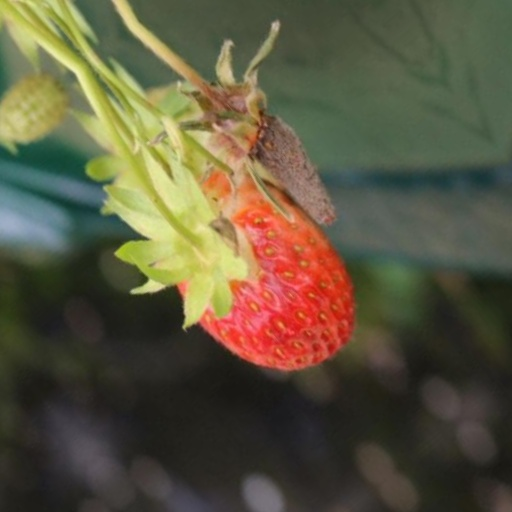Gray Mold: (296, 87, 365, 279)
